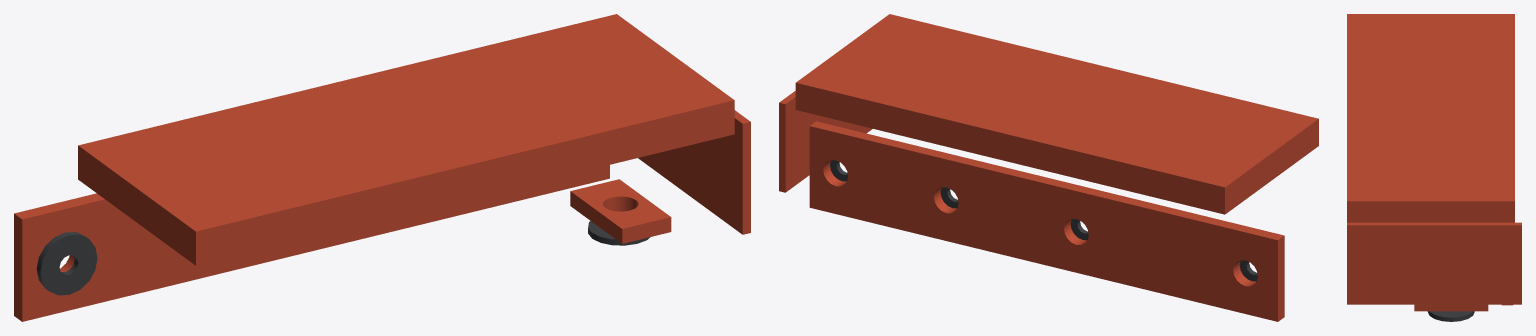
The model's file is oil-cooler-cap.glb.
The picture shows the model from 3 angles, left to right: view 1: azimuth 30°, elevation 25°; view 2: azimuth 150°, elevation 25°; view 3: azimuth 270°, elevation 25°; orthographic projection. The views are drawn at different scales.
Parts seen in each view (by area): view 1: oil-cooler-cap:shroudRed, oil-cooler-cap:darkSteel; view 2: oil-cooler-cap:shroudRed, oil-cooler-cap:darkSteel; view 3: oil-cooler-cap:shroudRed, oil-cooler-cap:darkSteel.
Part boxes in pixels (box(x1,y1,x2,y2)): oil-cooler-cap:shroudRed: box(14, 14, 750, 321); oil-cooler-cap:darkSteel: box(36, 221, 650, 295); oil-cooler-cap:shroudRed: box(779, 14, 1318, 321); oil-cooler-cap:darkSteel: box(830, 160, 1257, 281); oil-cooler-cap:shroudRed: box(1347, 14, 1521, 311); oil-cooler-cap:darkSteel: box(1427, 311, 1474, 321).
Size of the model in its own units: 152 by 41 by 52.
